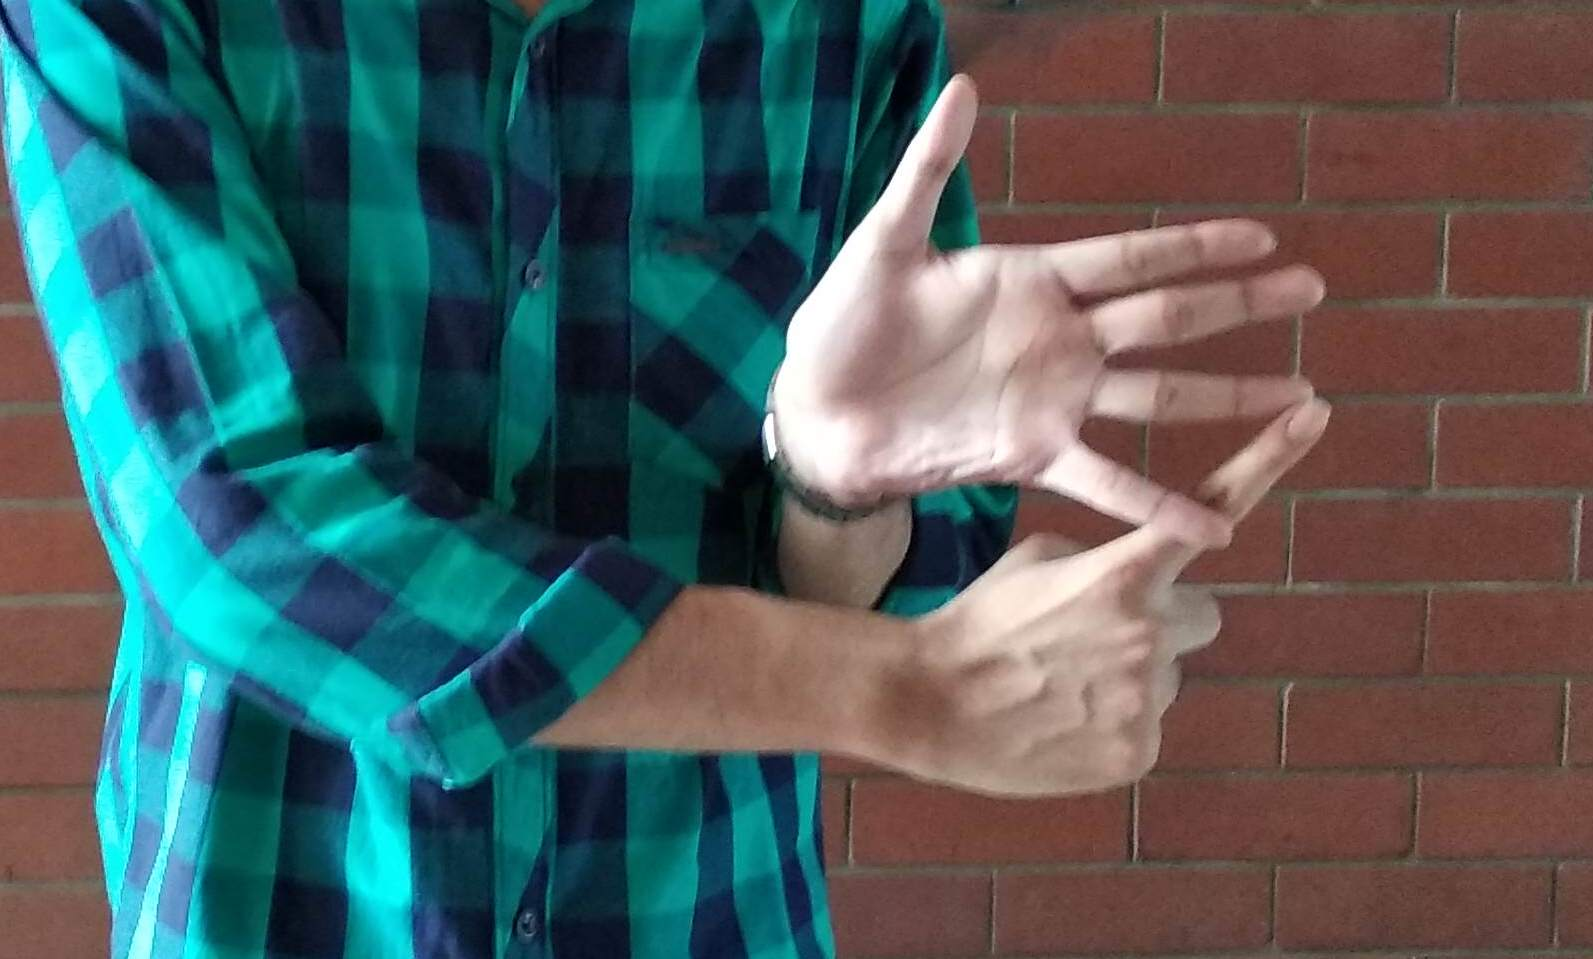e: (832, 121, 1329, 795)
